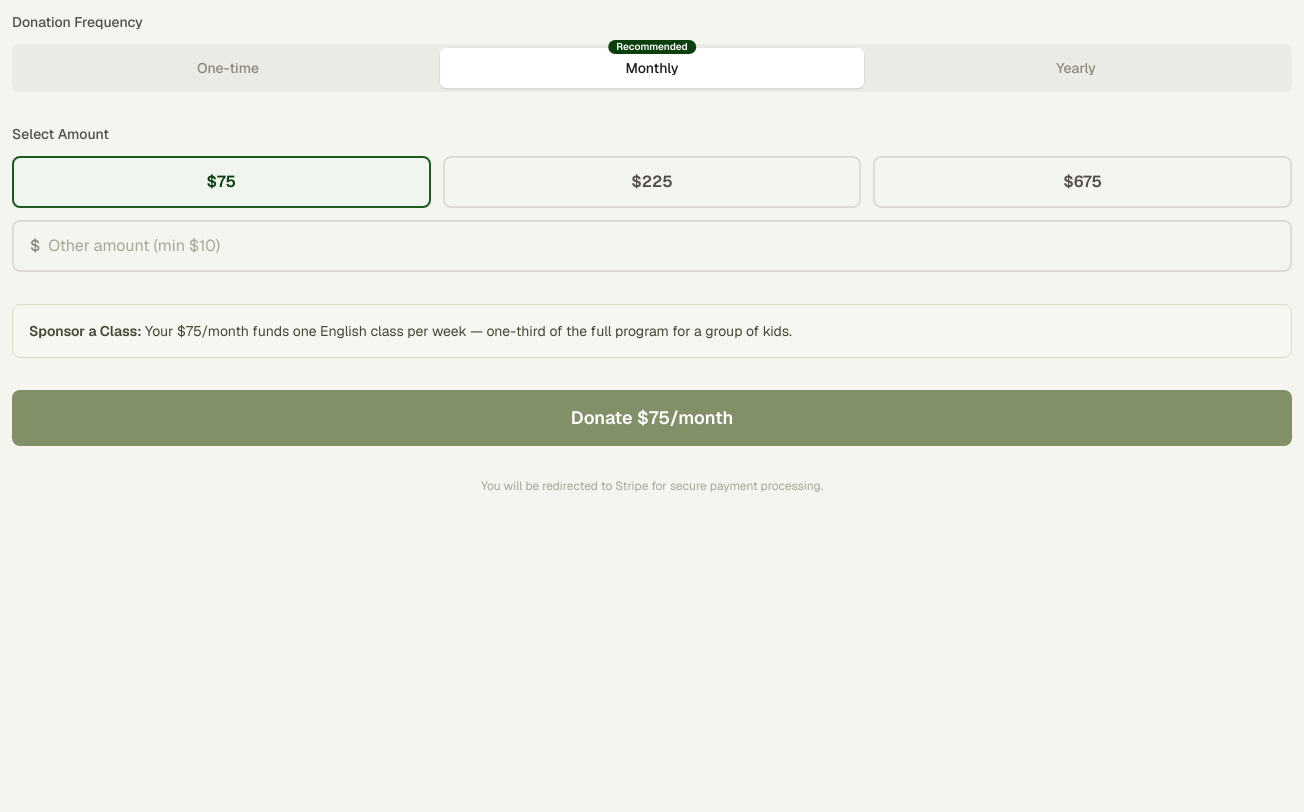
Scenario: DonationForm › form submission › shows error when API returns an error
Click the button "Donate $75/month" at coordinates (652, 418), box [12,390,1292,446]
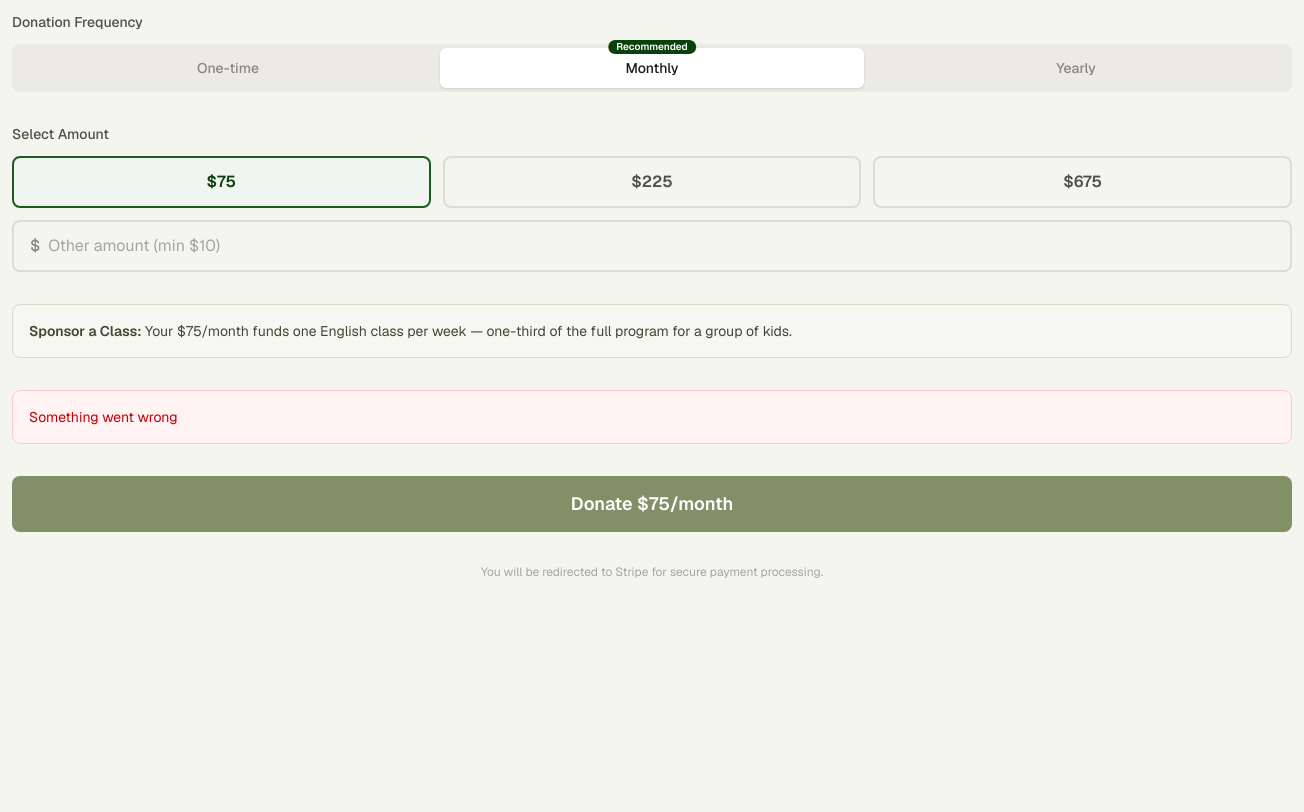
Check: the text "Something went wrong" is shown, box [12,390,1292,444]
